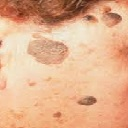Actinic: (20, 32, 76, 67), (94, 7, 124, 32), (75, 92, 102, 107)
